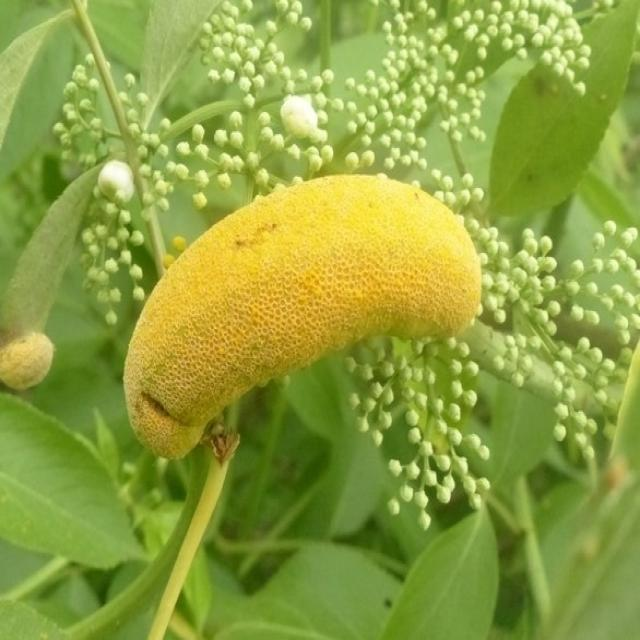Elderberry_rust: (121, 170, 483, 463)
